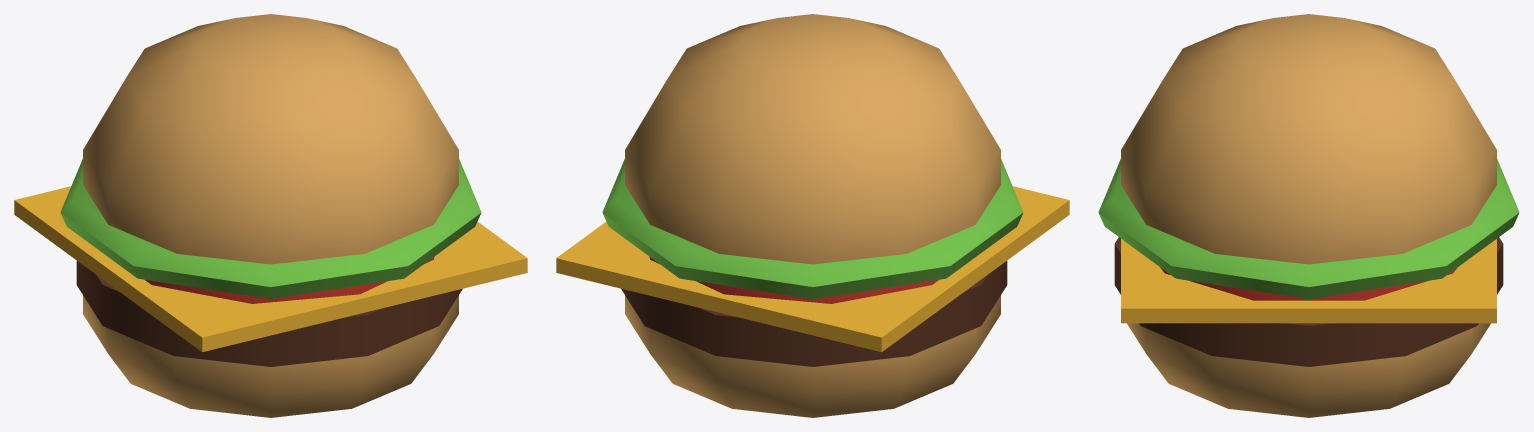
The model's file is burger.glb.
3 renders of one model, left to right at view 1: azimuth 30°, elevation 25°; view 2: azimuth 150°, elevation 25°; view 3: azimuth 270°, elevation 25°, orthographic.
Visible parts, largest first — view 1: burger; view 2: burger; view 3: burger.
Part boxes in pixels (left/top/right/bottom): burger: left=14, top=14, right=527, bottom=417; burger: left=556, top=14, right=1069, bottom=417; burger: left=1098, top=14, right=1519, bottom=417.
Size of the model in its own units: 0.128 by 0.106 by 0.13.
